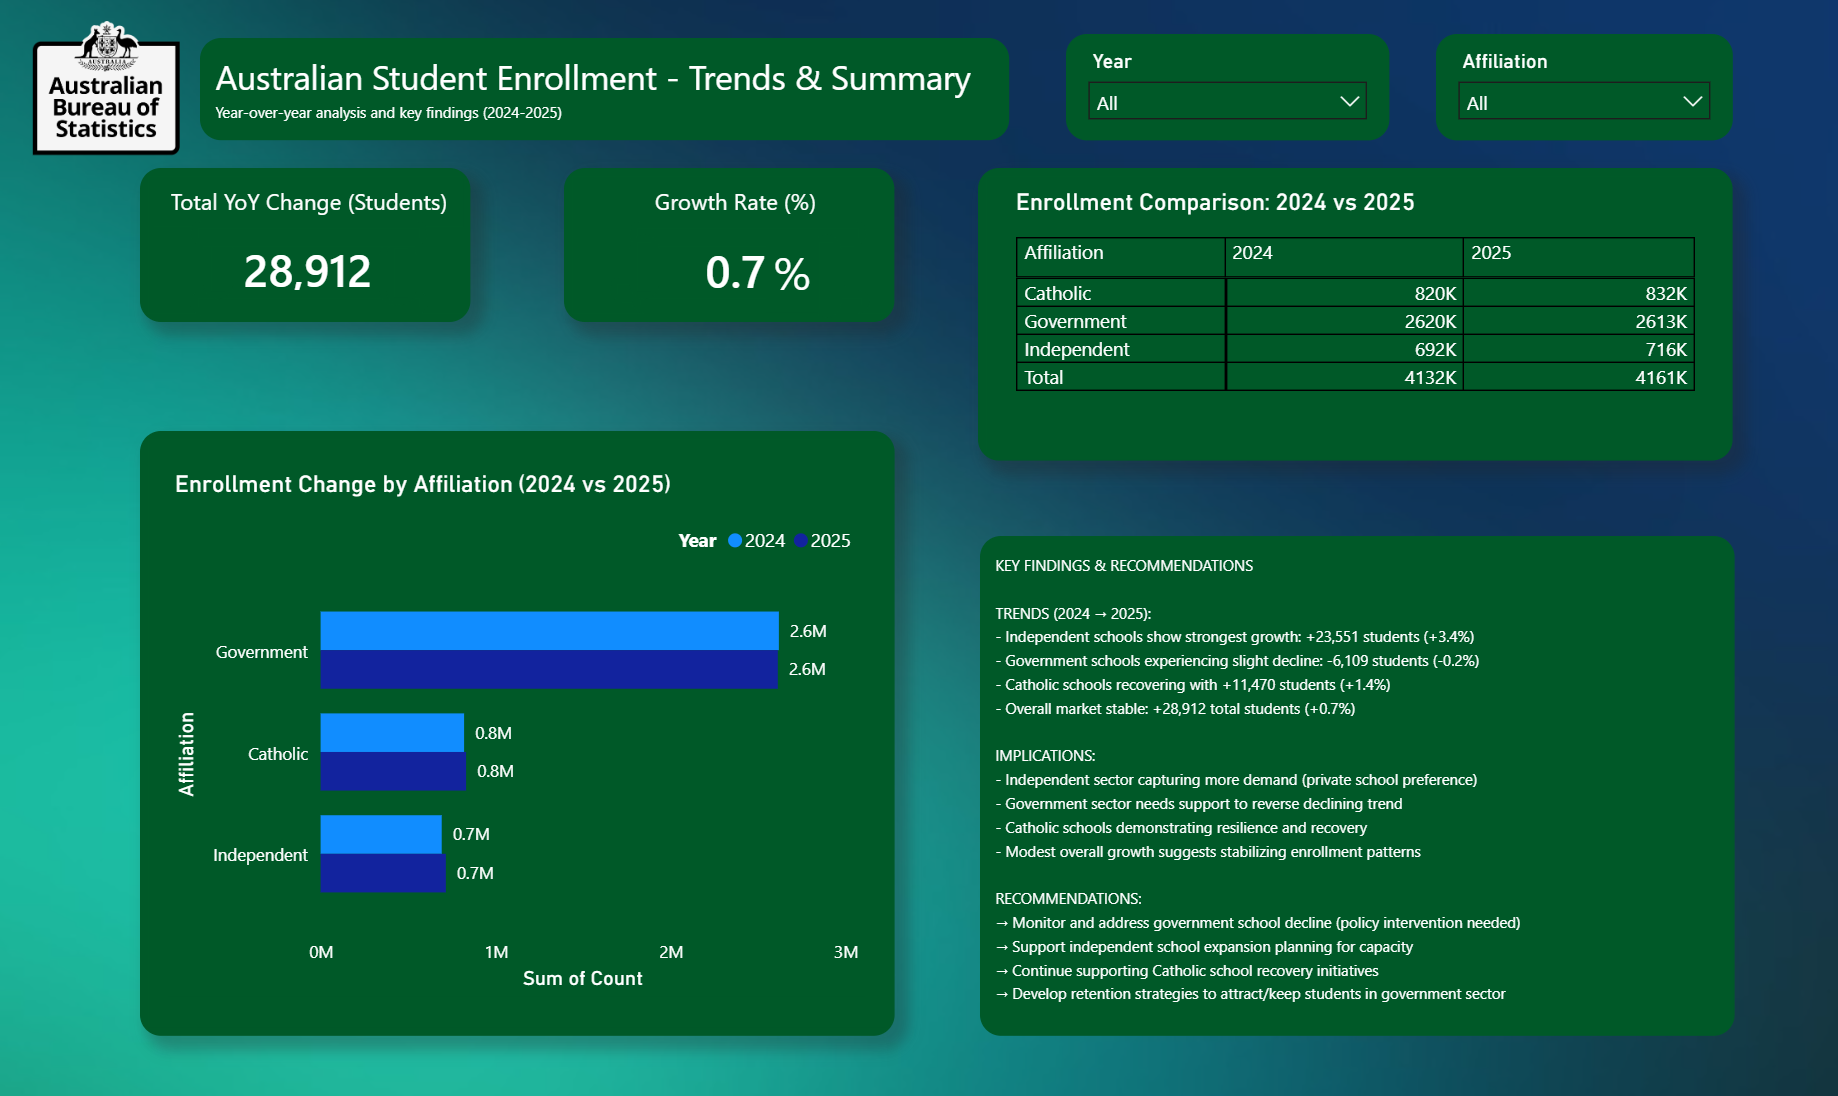

The dashboard page shown, as its layout file describes it:
{"tool":"powerbi","page":{"name":"TRENDS & SUMMARY","canvas":[1400,800],"ordinal":2},"visuals":[{"type":"image","box":[0,0,1399.7,800],"z":0},{"type":"textbox","box":[144.1,34.9,578.4,73],"z":1000},{"type":"image","box":[17.9,22.7,119.1,95.7],"z":2000},{"type":"shape","box":[101.1,127.9,235.8,110.4],"z":3000},{"type":"shape","box":[404.3,127.9,235.8,110.4],"z":4000},{"type":"cardVisual","fields":{"Data":["enrollment_cleaned.YoY_Absolute_Change"]},"box":[146.6,162.8,152.2,71.1],"z":5000},{"type":"shape","box":[436.7,204.6,170.3,19.3],"z":6000},{"type":"shape","box":[137.3,215.3,170.3,18.1],"z":7000},{"type":"shape","box":[146.6,175.3,21.8,47.4],"z":8000},{"type":"shape","box":[272,179.1,21.8,47.4],"z":9000},{"type":"textbox","box":[111.4,135.7,221.4,34.3],"z":10000},{"type":"cardVisual","fields":{"Data":["enrollment_cleaned.YoY_Percent_Change"]},"box":[450.5,163.5,152.2,71],"z":11000},{"type":"textbox","box":[430.5,135.4,192.1,45.4],"z":12000},{"type":"shape","box":[453,215.3,170.3,16.8],"z":13000},{"type":"shape","box":[450.5,165.3,170.3,19.3],"z":14000},{"type":"shape","box":[580.9,174.7,21.8,59.9],"z":15000},{"type":"shape","box":[277,179.1,21.8,47.4],"z":16000},{"type":"shape","box":[450.5,174.7,21.8,47.4],"z":17000},{"type":"shape","box":[137.3,165.3,170.3,19.3],"z":18000},{"type":"textbox","box":[548.4,174.7,37.4,55.5],"z":19000},{"type":"shape","box":[101.4,315.7,539.1,432.4],"z":20000},{"type":"clusteredBarChart","title":"Enrollment Change by Affiliation (2024 vs 2025)","fields":{"Category":["enrollment_cleaned.Affiliation"],"Y":["Sum(enrollment_cleaned.Count)"],"Series":["enrollment_cleaned.Year"]},"box":[121.4,343.6,497.9,376.2],"z":21000},{"type":"shape","box":[700,127.9,539.1,209],"z":22000},{"type":"pivotTable","title":"Enrollment Comparison: 2024 vs 2025","fields":{"Rows":["enrollment_cleaned.Affiliation"],"Columns":["enrollment_cleaned.Year"],"Values":["Sum(enrollment_cleaned.Count)"]},"box":[722.5,142.3,497.9,178.4],"z":23000},{"type":"textbox","box":[701.4,390.7,539.1,356.9],"z":24000},{"type":"slicer","fields":{"Values":["enrollment_cleaned.Year"]},"box":[762.9,32.1,231.4,75.7],"z":24001},{"type":"slicer","fields":{"Values":["enrollment_cleaned.Affiliation"]},"box":[1027.1,32.1,212.1,75.7],"z":24002}]}

Visuals, with their boxes on the page's 1400x800 design canvas (x1, y1, x2, y2). These are canvas units, not pixel positions in the 1838x1096 screenshot, which may show the page scaled, cropped or inside an application window:
image: 0, 0, 1400, 800
textbox: 144, 35, 722, 108
image: 18, 23, 137, 118
shape: 101, 128, 337, 238
shape: 404, 128, 640, 238
cardVisual - enrollment_cleaned.YoY_Absolute_Change: 147, 163, 299, 234
shape: 437, 205, 607, 224
shape: 137, 215, 308, 233
shape: 147, 175, 168, 223
shape: 272, 179, 294, 226
textbox: 111, 136, 333, 170
cardVisual - enrollment_cleaned.YoY_Percent_Change: 450, 164, 603, 234
textbox: 430, 135, 623, 181
shape: 453, 215, 623, 232
shape: 450, 165, 621, 185
shape: 581, 175, 603, 235
shape: 277, 179, 299, 226
shape: 450, 175, 472, 222
shape: 137, 165, 308, 185
textbox: 548, 175, 586, 230
shape: 101, 316, 640, 748
"Enrollment Change by Affiliation (2024 vs 2025)" clusteredBarChart: 121, 344, 619, 720
shape: 700, 128, 1239, 337
"Enrollment Comparison: 2024 vs 2025" pivotTable: 722, 142, 1220, 321
textbox: 701, 391, 1240, 748
slicer - enrollment_cleaned.Year: 763, 32, 994, 108
slicer - enrollment_cleaned.Affiliation: 1027, 32, 1239, 108
